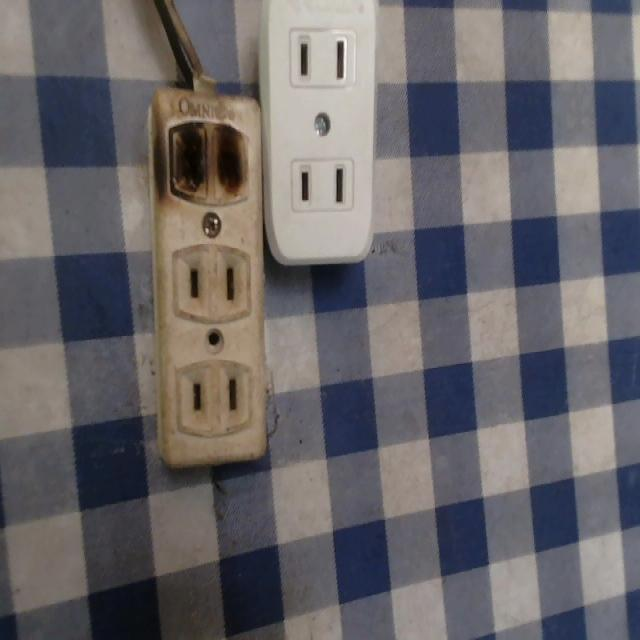-: (151, 107, 255, 212)
